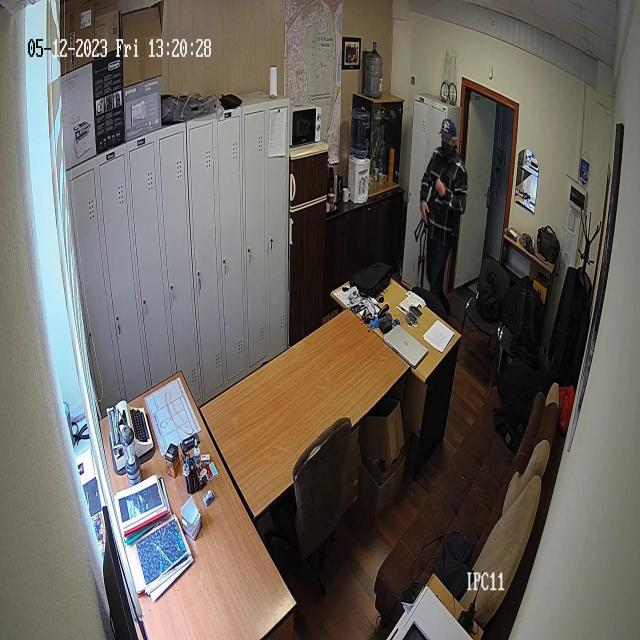gun: (413, 115, 468, 286), (415, 144, 462, 242)
